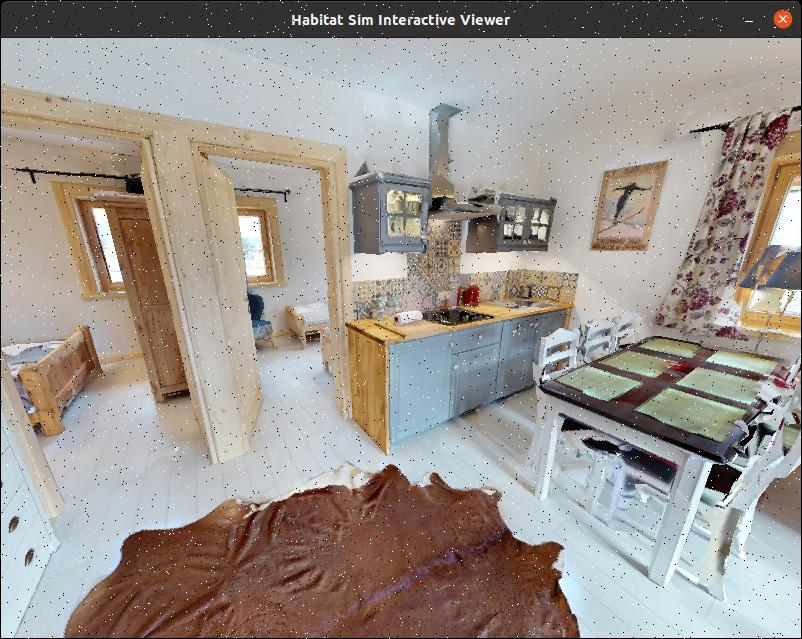door-frame: (0, 128, 226, 529), (195, 141, 366, 448)
table: (519, 309, 792, 578)
